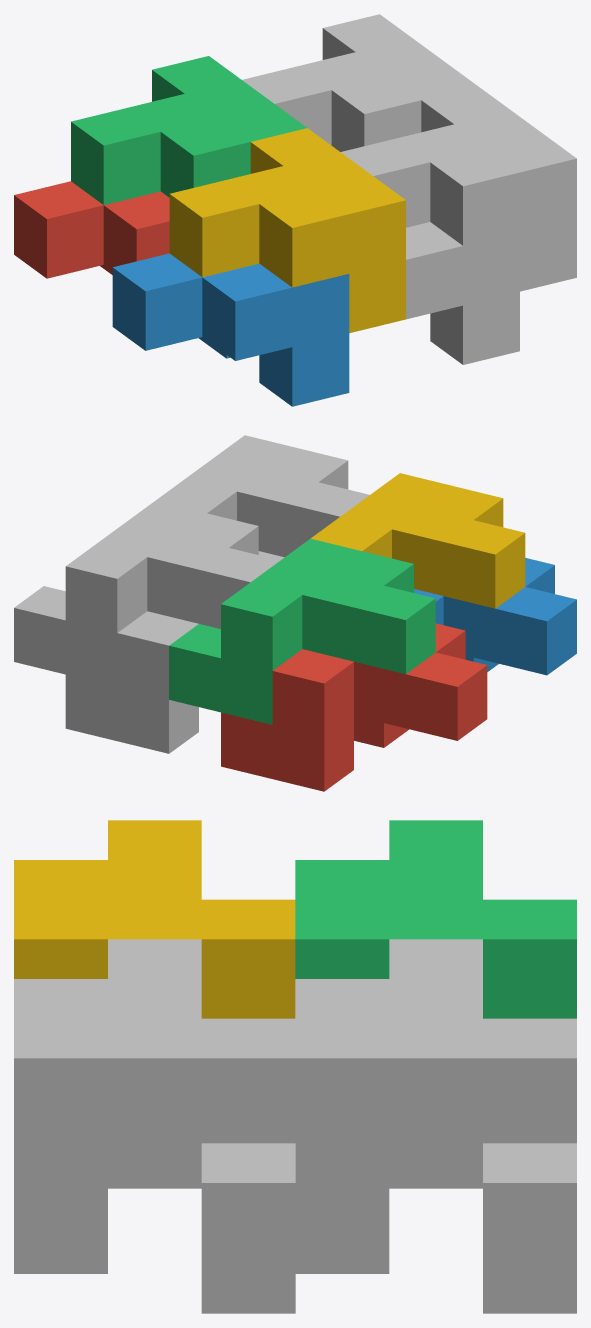
File: tiling.obj
3 renders of one model, top to bottom at view 1: azimuth 30°, elevation 25°; view 2: azimuth 150°, elevation 25°; view 3: azimuth 270°, elevation 25°, orthographic. The views are drawn at different scales.
Visible parts, largest first — view 1: copy_1_domain_4, copy_1_domain_8, copy_1_domain_2, copy_1_domain_3, copy_1_domain_7, copy_1_domain_6, copy_1_domain_1; view 2: copy_1_domain_3, copy_1_domain_7, copy_1_domain_1, copy_1_domain_4, copy_1_domain_8, copy_1_domain_5, copy_1_domain_2; view 3: copy_1_domain_8, copy_1_domain_7, copy_1_domain_4, copy_1_domain_3, copy_1_domain_5, copy_1_domain_6.
Boxes of the visible parts, box(x1,y1,x2,y2) form: copy_1_domain_4: box(169, 128, 405, 333); copy_1_domain_8: box(340, 86, 576, 291); copy_1_domain_2: box(112, 253, 349, 406); copy_1_domain_3: box(71, 56, 306, 204); copy_1_domain_7: box(242, 14, 477, 151); copy_1_domain_6: box(406, 222, 519, 364); copy_1_domain_1: box(14, 181, 169, 278); copy_1_domain_3: box(169, 538, 435, 724); copy_1_domain_7: box(14, 501, 280, 686); copy_1_domain_1: box(221, 623, 487, 791); copy_1_domain_4: box(311, 473, 525, 608); copy_1_domain_8: box(155, 435, 369, 557); copy_1_domain_5: box(65, 611, 198, 753); copy_1_domain_2: box(414, 558, 576, 675); copy_1_domain_8: box(14, 939, 295, 1267); copy_1_domain_7: box(295, 939, 576, 1267); copy_1_domain_4: box(14, 820, 295, 1018); copy_1_domain_3: box(295, 820, 576, 1018); copy_1_domain_5: box(295, 1143, 576, 1313); copy_1_domain_6: box(14, 1143, 295, 1313).
Size of the model in its own units: 8 by 3 by 6.
